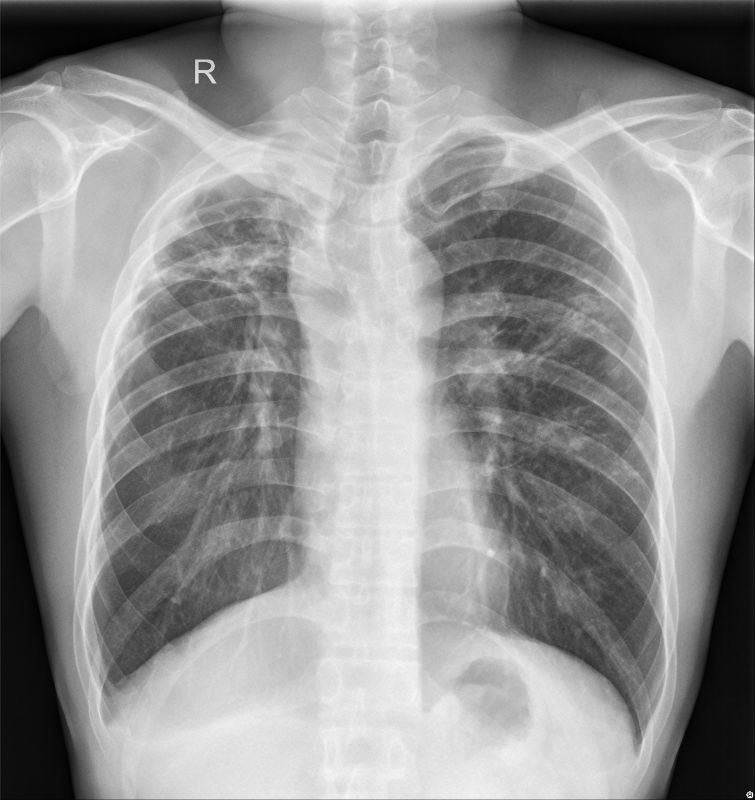Tuberculosis (TB): (529, 260, 627, 465), (153, 194, 282, 336)
